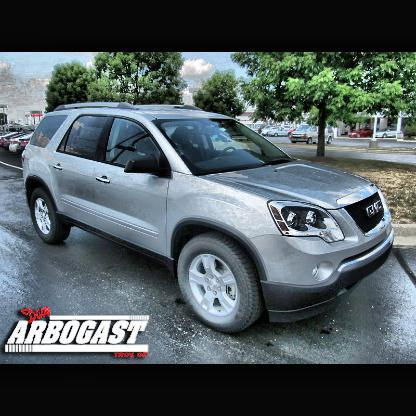GMC Acadia SUV 2012: (21, 103, 395, 332)
